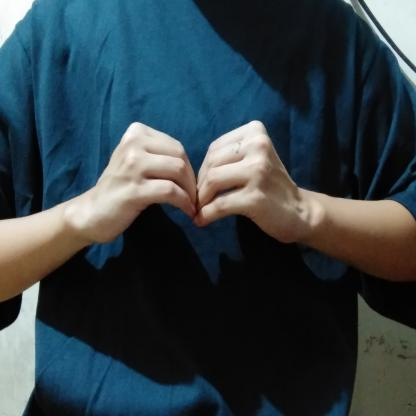how: (66, 109, 313, 272)
